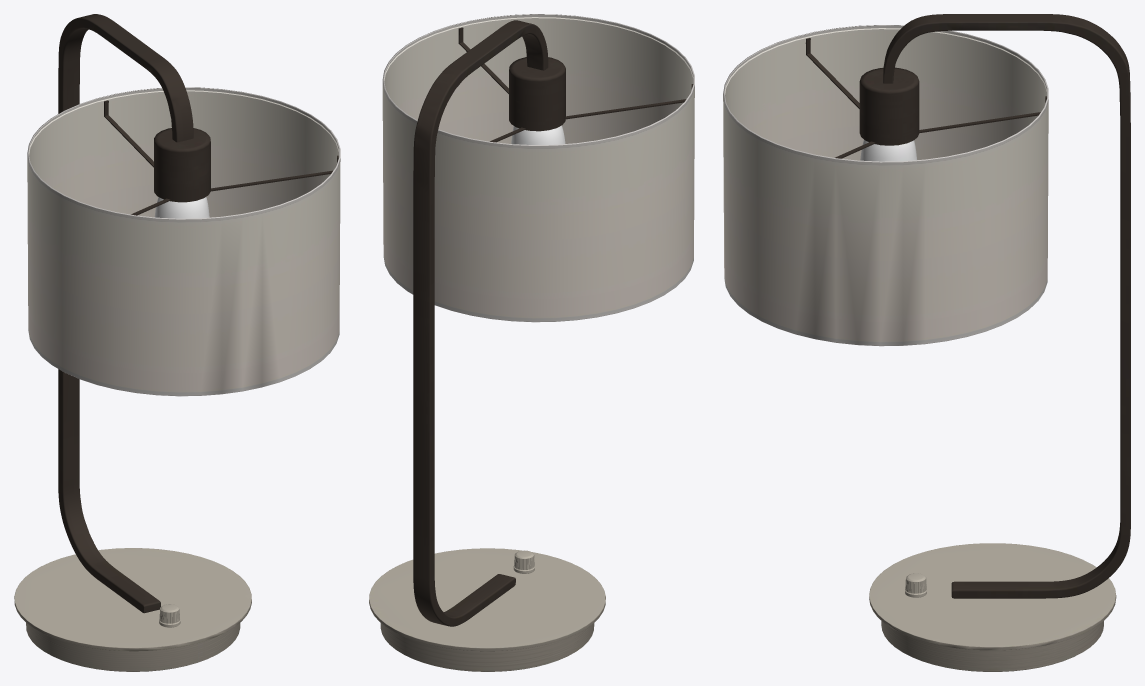
The model's file is B07B4YVXG8.glb.
3 views of the same model, side by side, from view 1: azimuth 30°, elevation 25°; view 2: azimuth 150°, elevation 25°; view 3: azimuth 270°, elevation 25° (orthographic). The views are drawn at different scales.
Parts seen in each view (by area): view 1: RootNode; view 2: RootNode; view 3: RootNode.
Part boxes in pixels (x1=…): RootNode: x1=14, y1=14, x2=340, y2=671; RootNode: x1=369, y1=14, x2=694, y2=671; RootNode: x1=723, y1=14, x2=1130, y2=671.
Size of the model in its own units: 0.23 by 0.4734 by 0.2879.
1 material, 1 textured.
